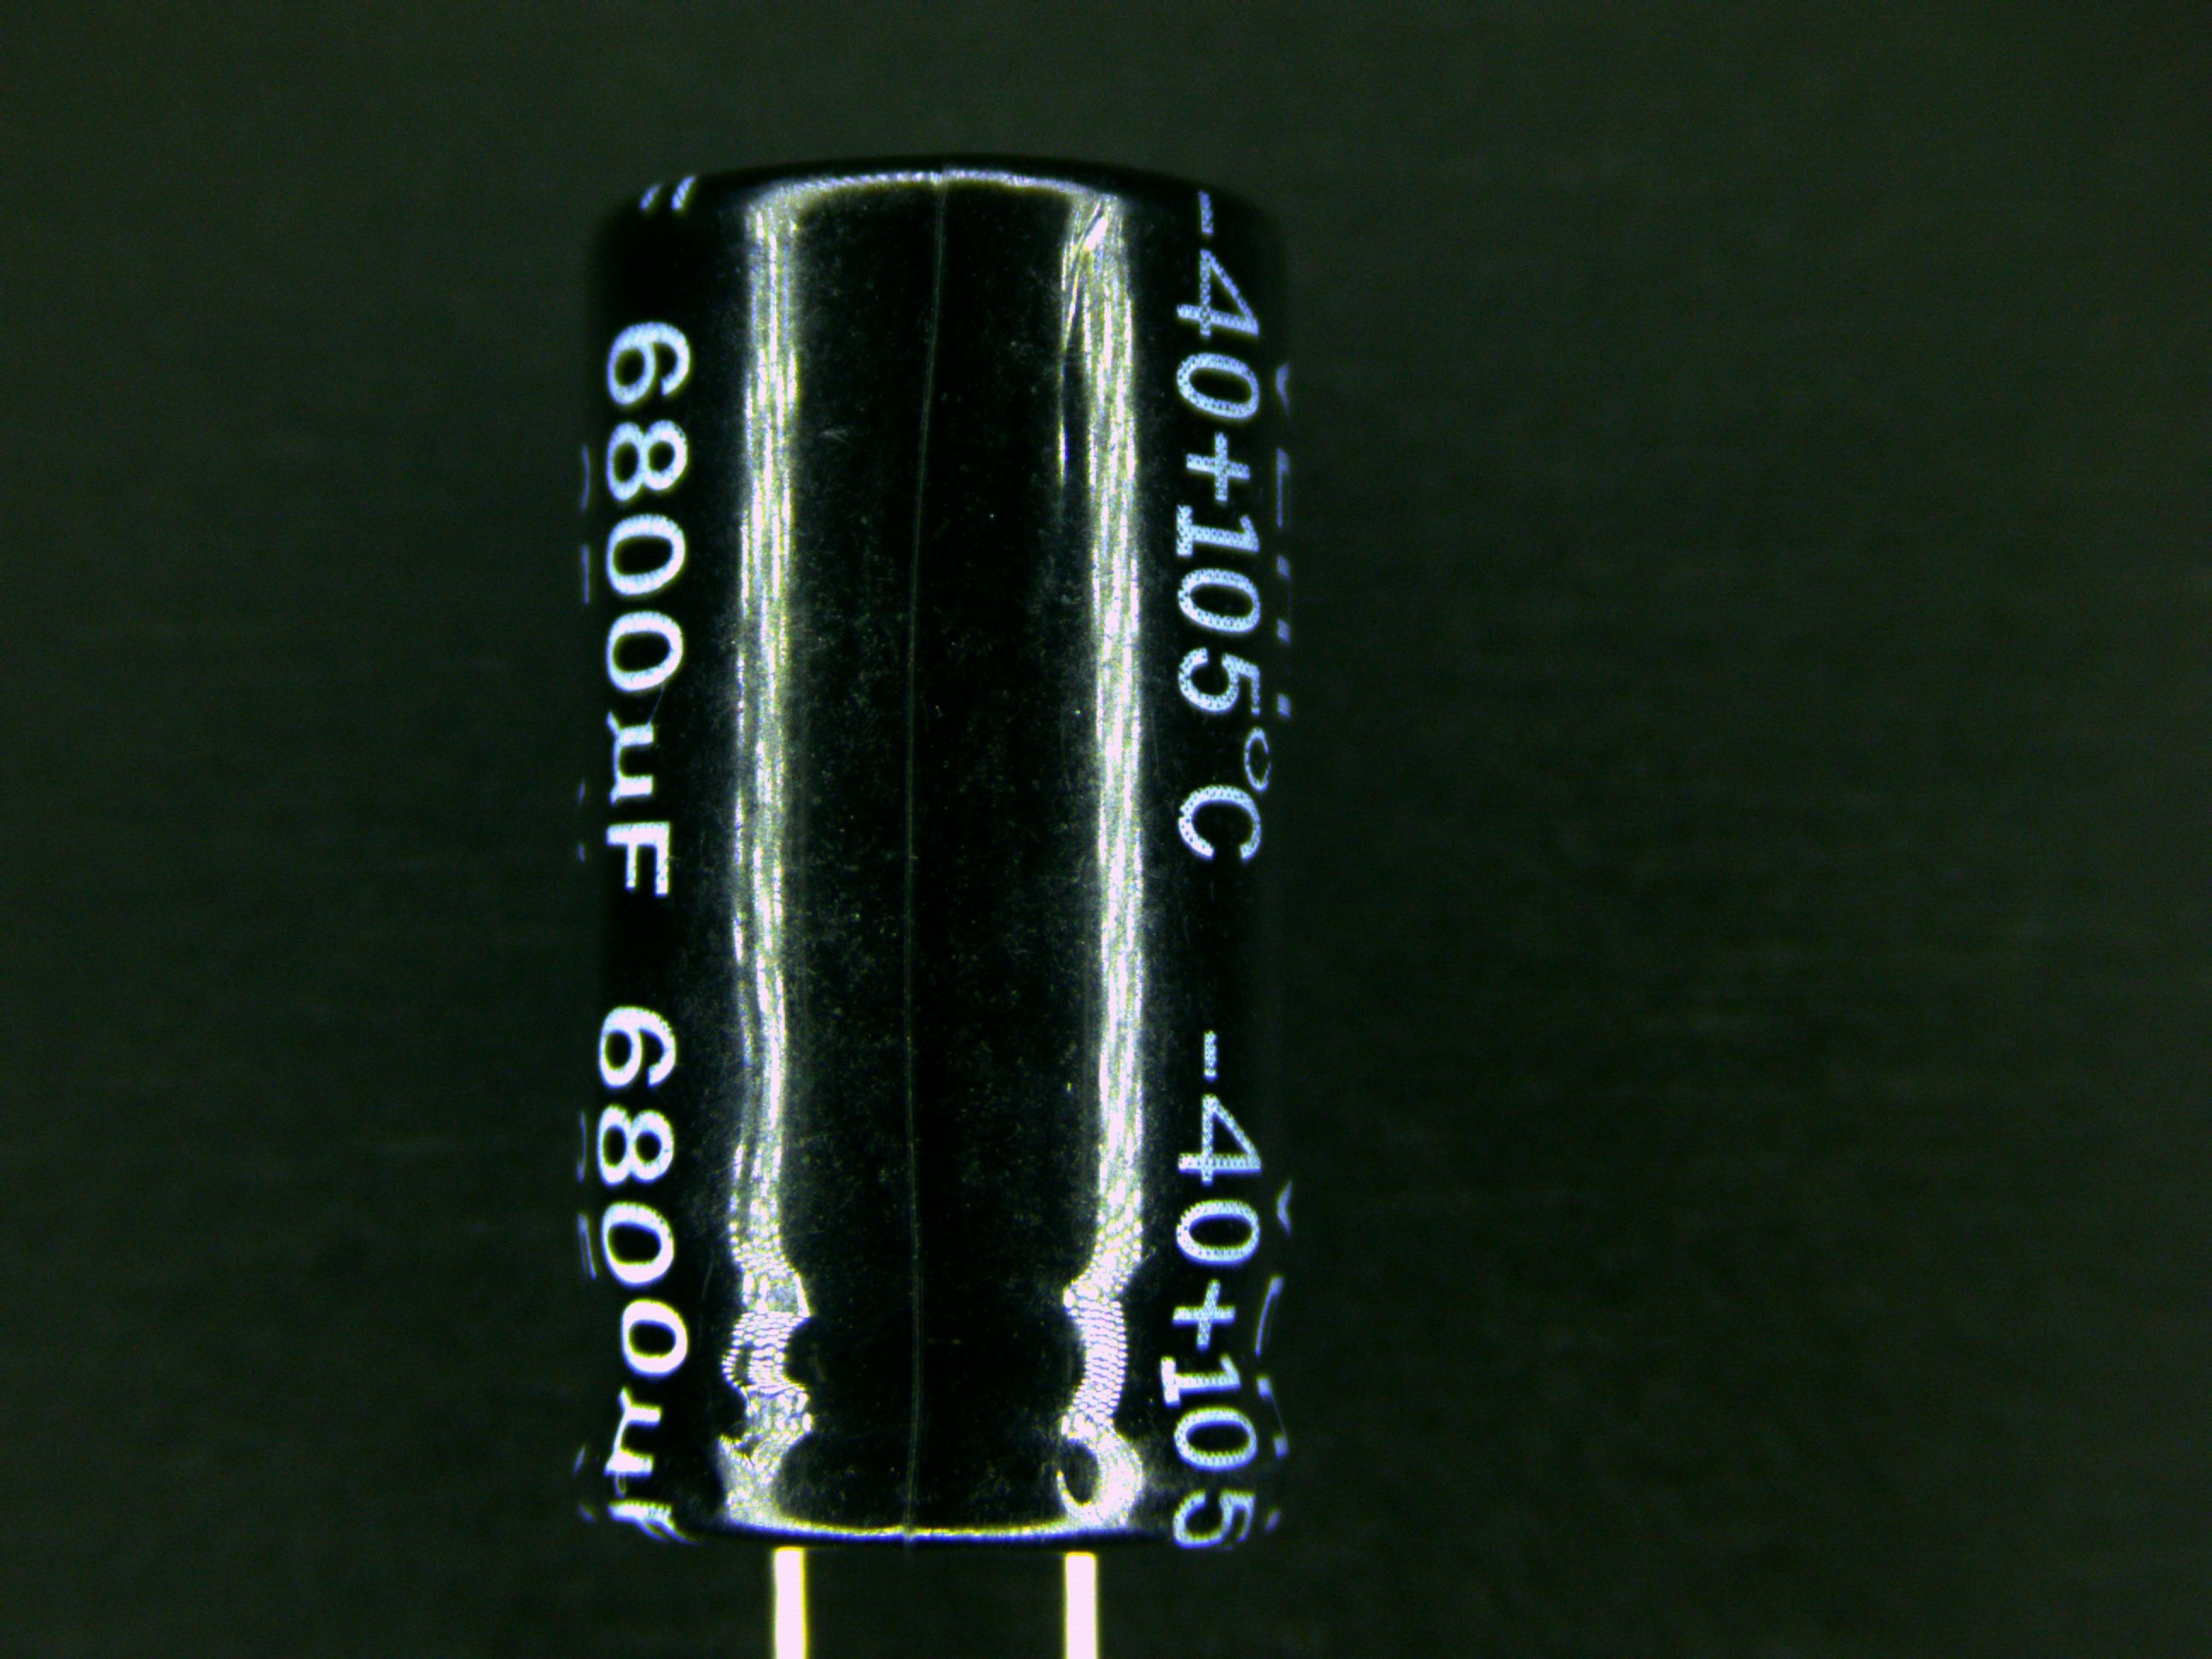c3: (564, 157, 1305, 1633)
